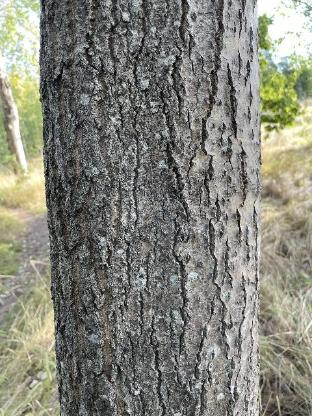tree: (31, 0, 282, 416)
